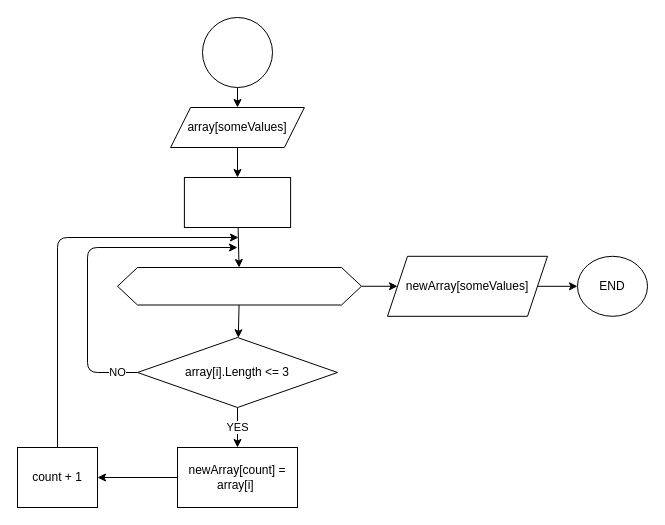
This 665x525 diagram has some shape labels left out. The box of each missing label's shape, as (x1, y1, x2, y2) in pixels:
int i = 0 ; i < array . Length ; i++;: (116, 266, 362, 305)
newArray = [ ] count = 0: (183, 176, 291, 228)
START: (202, 16, 272, 88)
